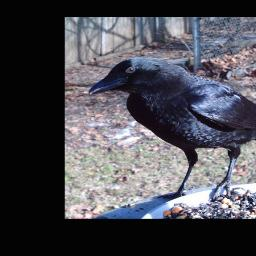Crow: (88, 57, 256, 202)
